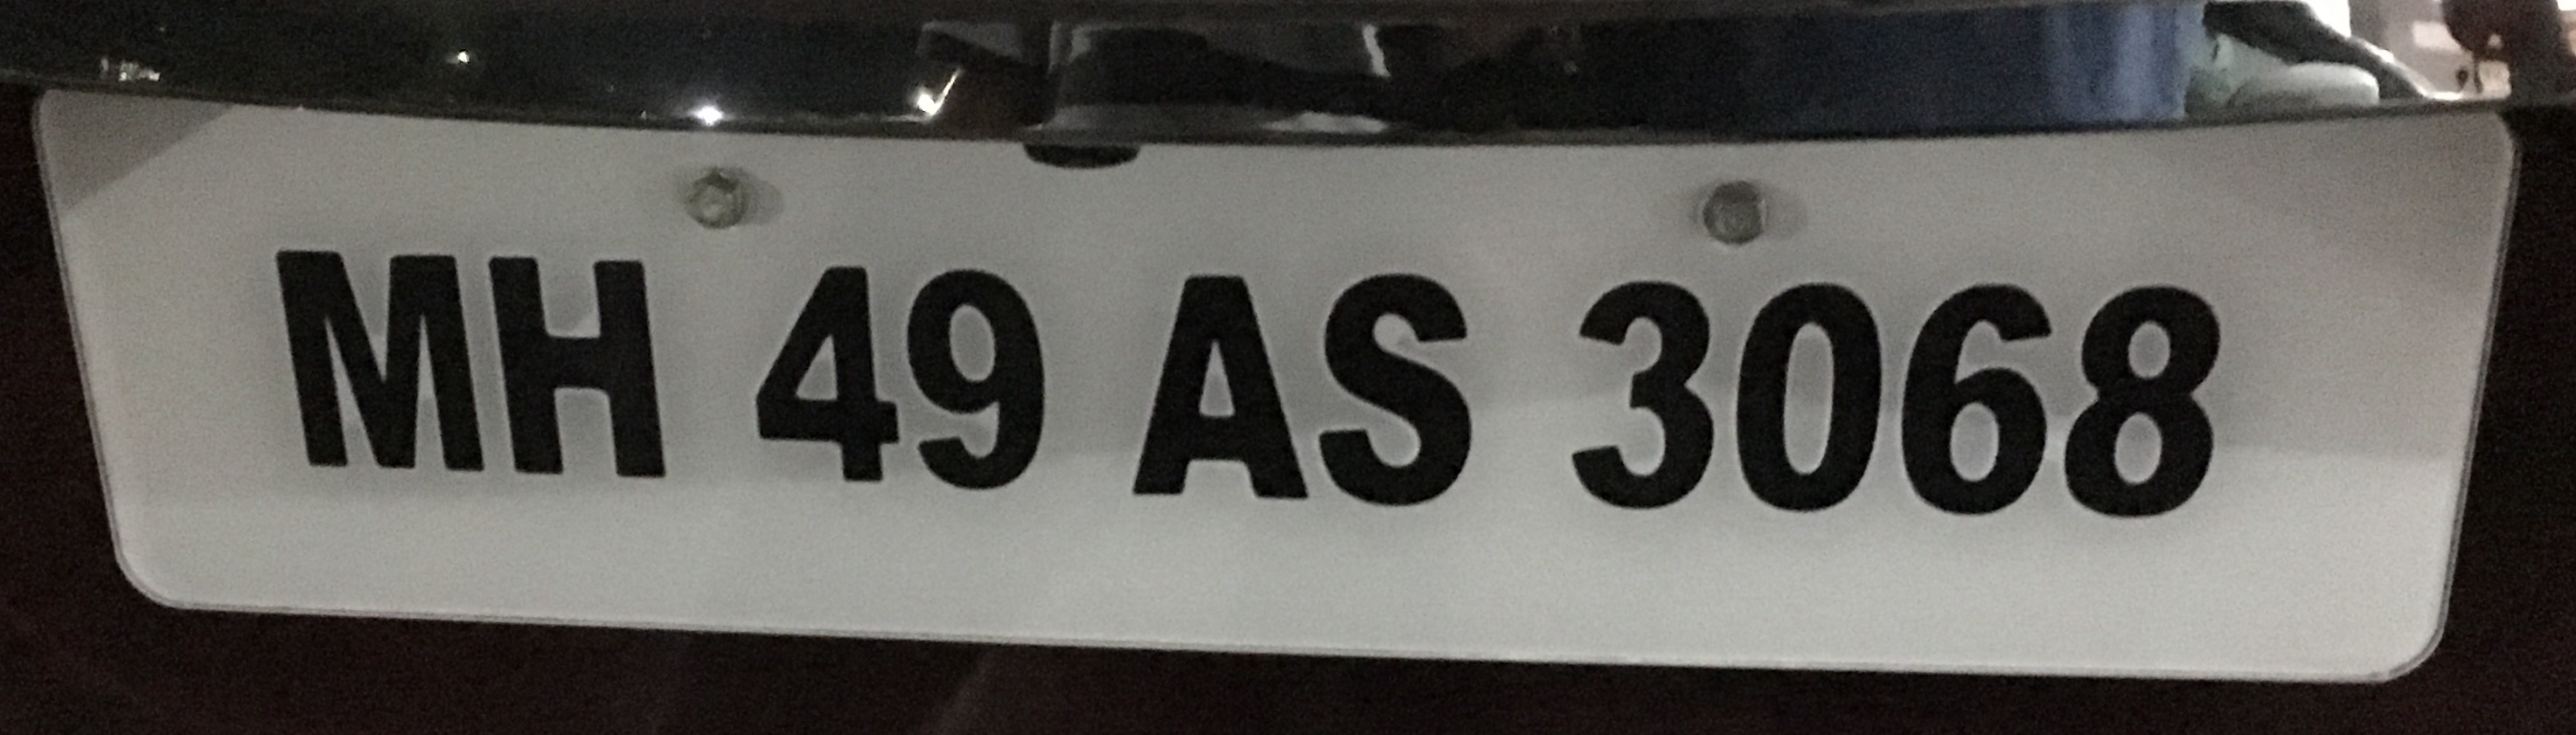numberplate: (24, 65, 2516, 681)
